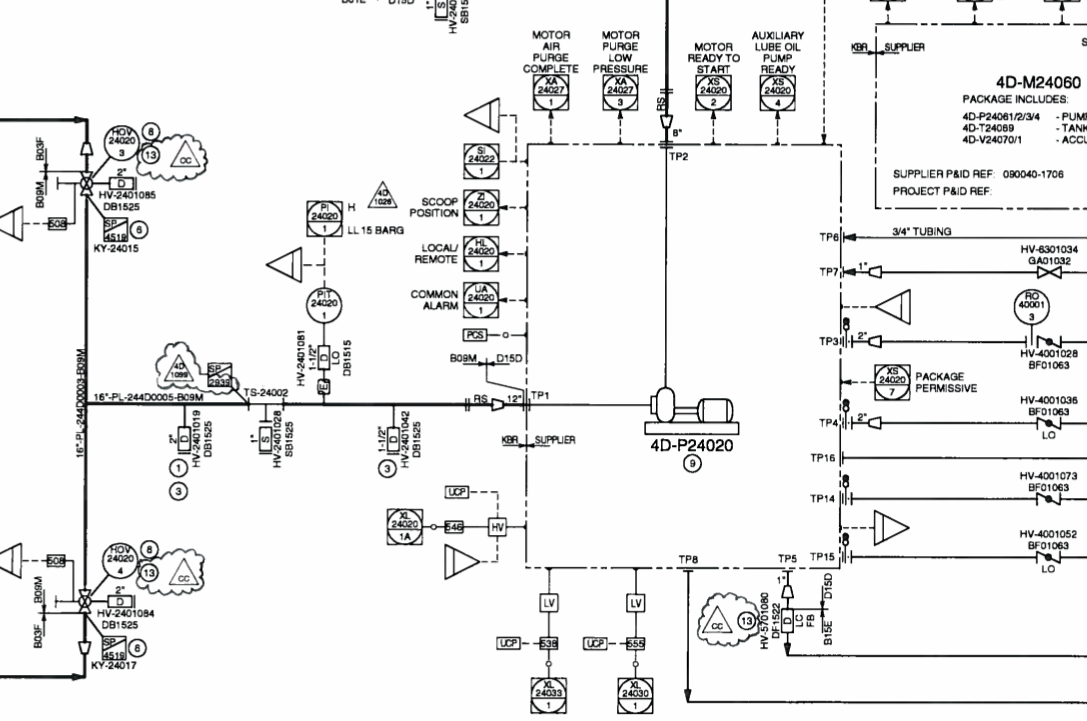Instrument: (1005, 287, 1058, 326), (301, 285, 348, 327), (99, 539, 139, 582), (103, 121, 141, 164)
Instrument-square: (382, 502, 426, 552), (611, 672, 656, 719), (871, 359, 916, 405), (528, 69, 573, 115), (691, 72, 738, 115), (460, 139, 507, 182), (459, 278, 503, 323), (526, 672, 569, 718), (301, 197, 347, 240), (755, 73, 802, 115), (459, 187, 504, 230), (600, 71, 642, 116), (460, 235, 504, 274)
